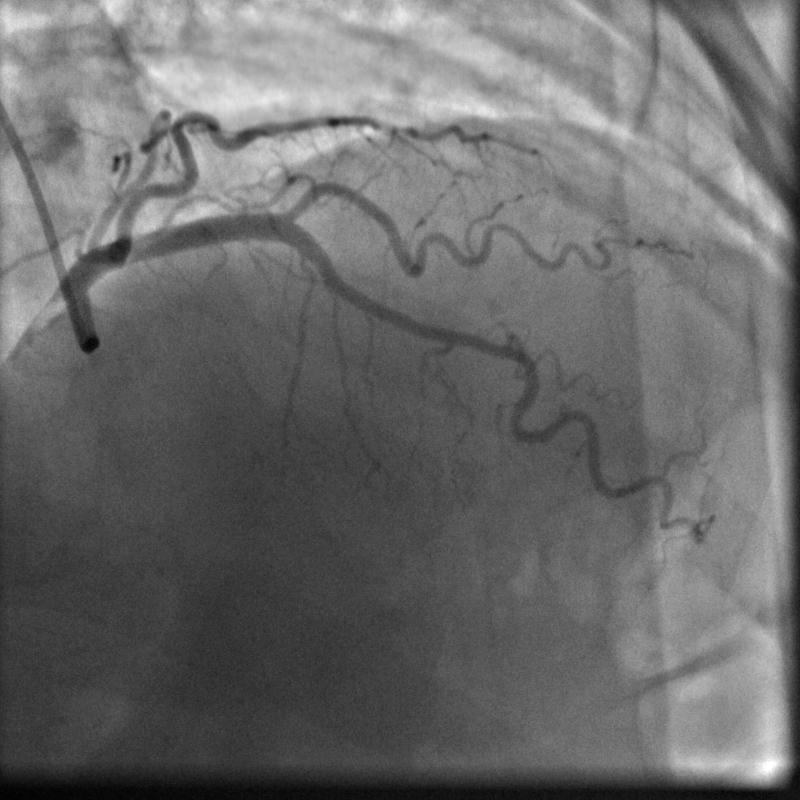Stenosis: (457, 327, 539, 369)
